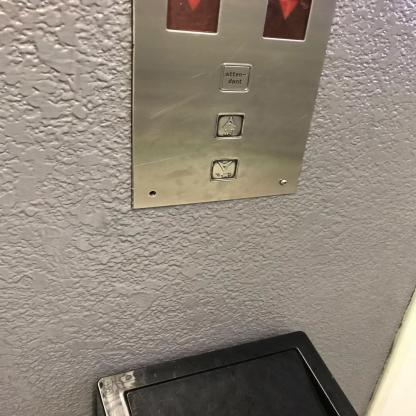down: (208, 156, 240, 182)
text_attendant: (218, 61, 253, 94)
up: (214, 112, 246, 139)
